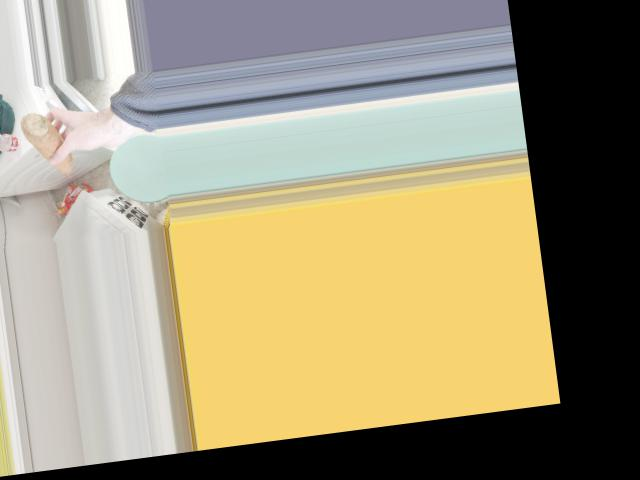sweet_potato: (18, 109, 72, 179)
